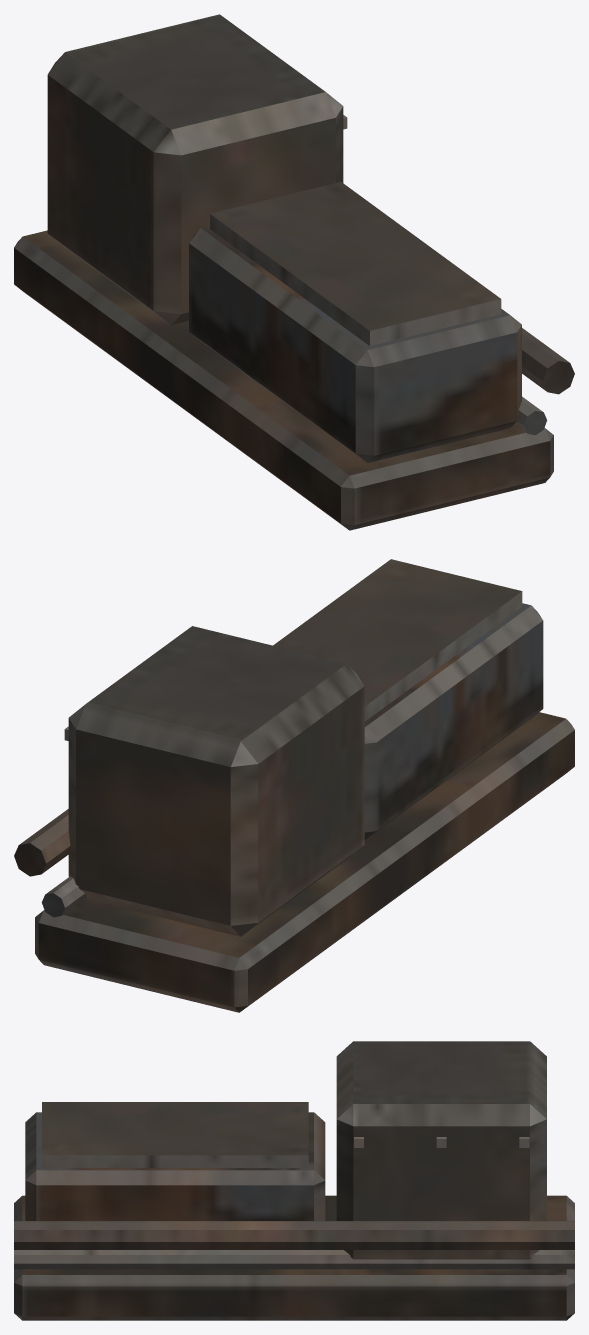
Rendered from cargo-bay-wall-e.glb.
3 renders of one model, top to bottom at view 1: azimuth 30°, elevation 25°; view 2: azimuth 150°, elevation 25°; view 3: azimuth 270°, elevation 25°, orthographic. The views are drawn at different scales.
Visible parts, largest first — view 1: body; view 2: body; view 3: body.
Boxes of the visible parts, <box> form: body: <box>14,14,574,530</box>; body: <box>14,559,574,1012</box>; body: <box>14,1041,574,1320</box>.
Bounding box in the file's own units: 0.785 × 0.82 × 2.
Materials: 1 (1 with a texture image).
